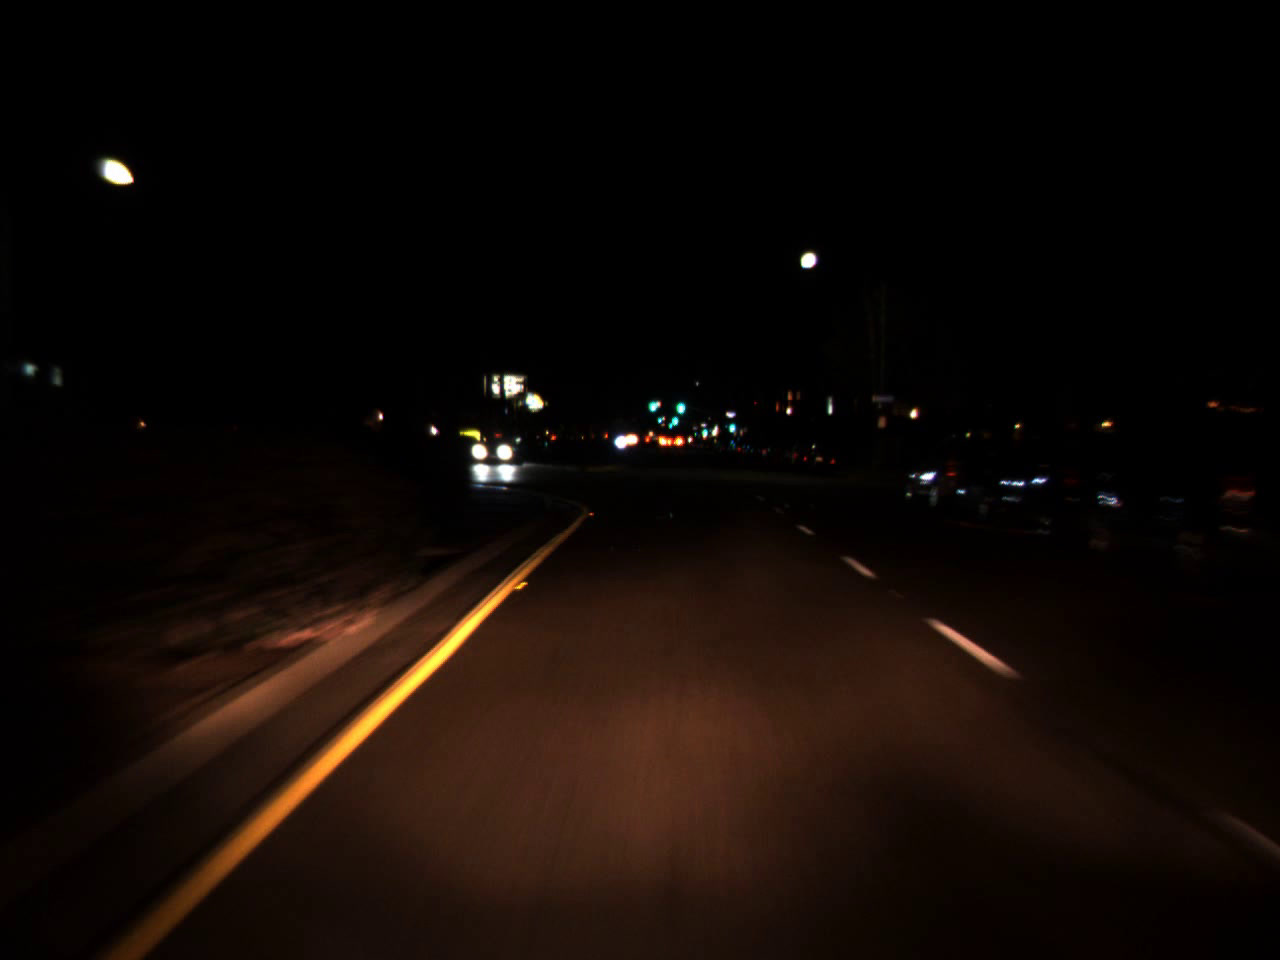go: (673, 393, 687, 414), (647, 391, 657, 415), (727, 414, 736, 435), (669, 410, 679, 425), (656, 412, 663, 424), (701, 424, 708, 436)
